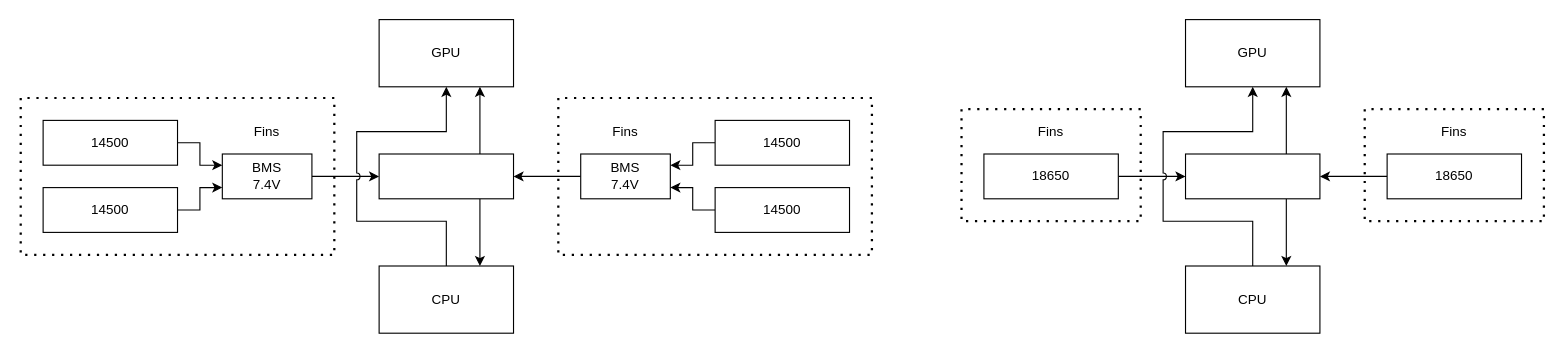
The diagram is 1565 pixels wide and 353 high, and some of its shapes have lost their labels. Here are the shapes that lost their labels. From the top down, the box of each, then its label:
(378, 153, 514, 199): Power Managment
(1184, 153, 1320, 199): Power Managment & BMS 7.4V
